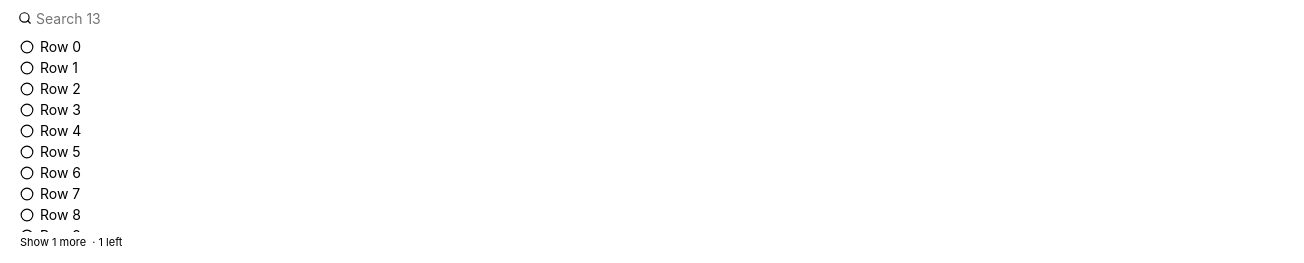
the search › says nothing matches rather than drawing the list's empty state
Step 1. Type "zzzz" into the search field → (652,18), box [12,4,1292,32]
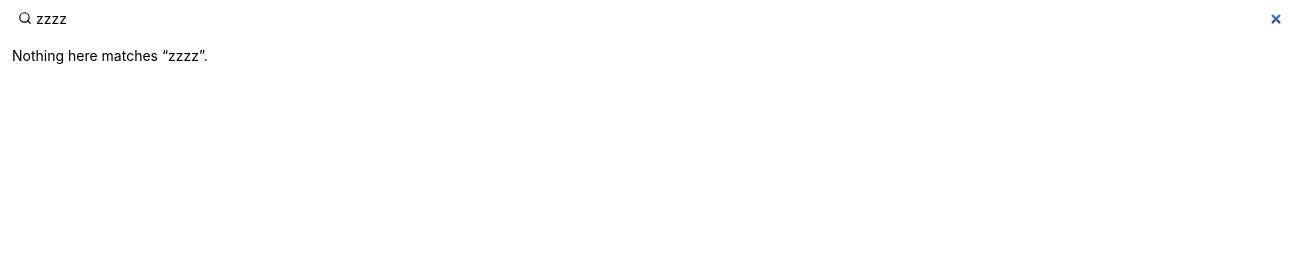
Result: the text "Nothing here matches “zzzz”." is shown at [12,47,208,64]
